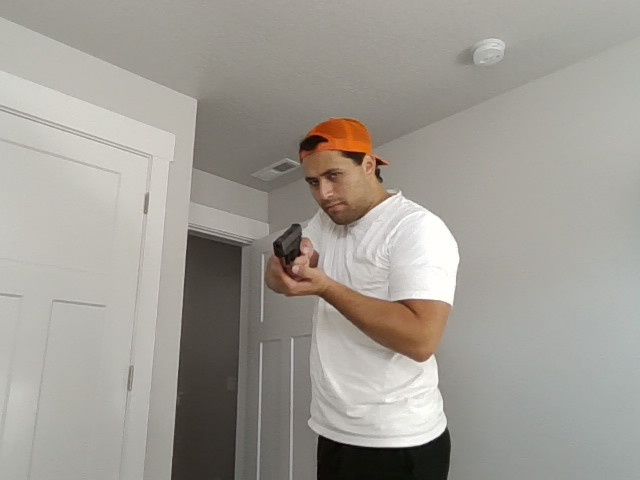handgun: (272, 223, 302, 267)
